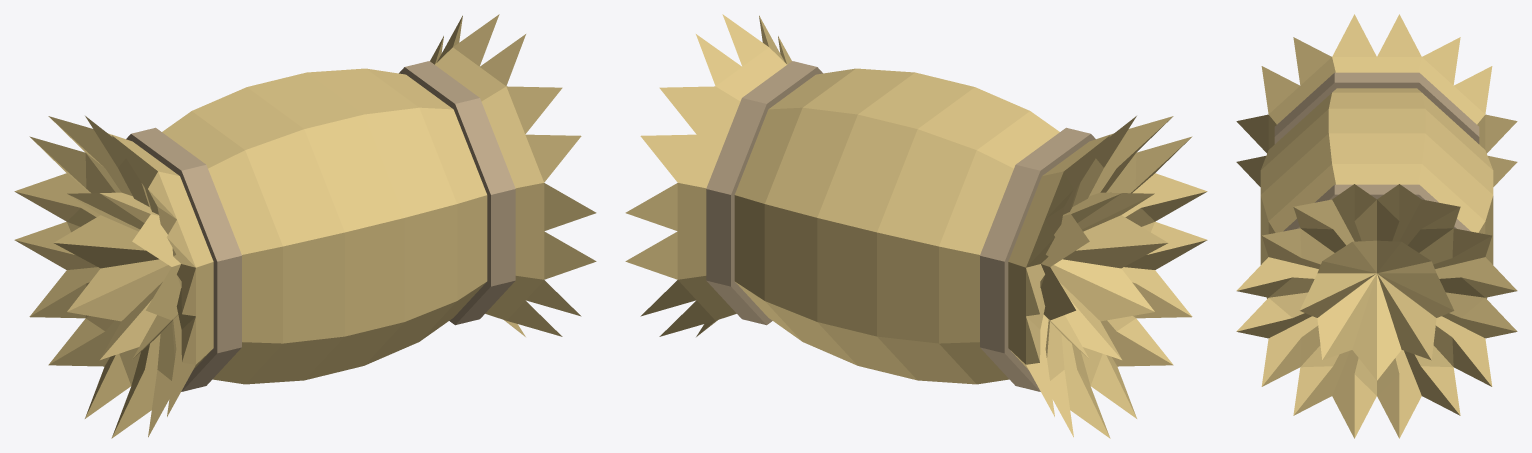
The model's file is Prop_Hay_1.obj.
3 views of the same model, side by side, from view 1: azimuth 30°, elevation 25°; view 2: azimuth 150°, elevation 25°; view 3: azimuth 270°, elevation 25° (orthographic). The views are drawn at different scales.
Parts seen in each view (by area): view 1: object1; view 2: object1; view 3: object1.
Part boxes in pixels (x1=…): object1: x1=14, y1=14, x2=596, y2=438; object1: x1=625, y1=14, x2=1207, y2=438; object1: x1=1236, y1=14, x2=1517, y2=438.
Size of the model in its own units: 0.8342 by 0.5842 by 0.5842.
